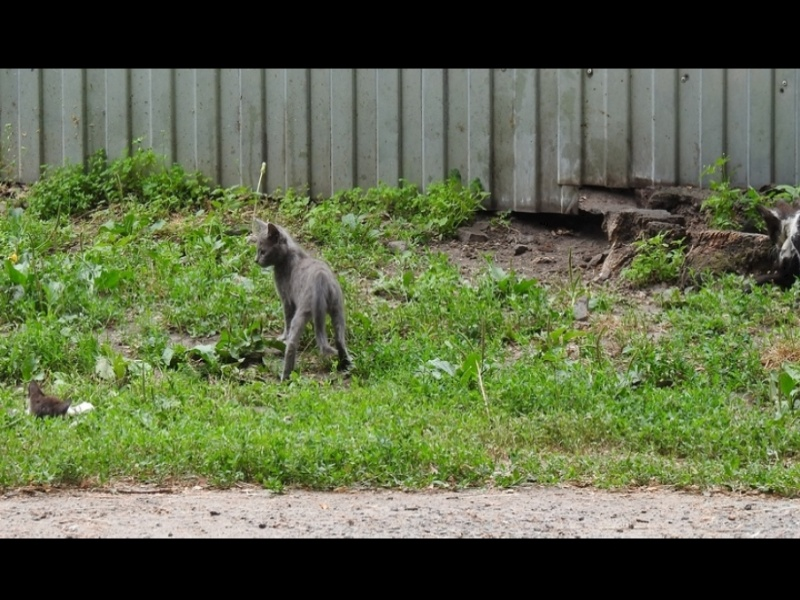cat: (247, 218, 357, 391)
